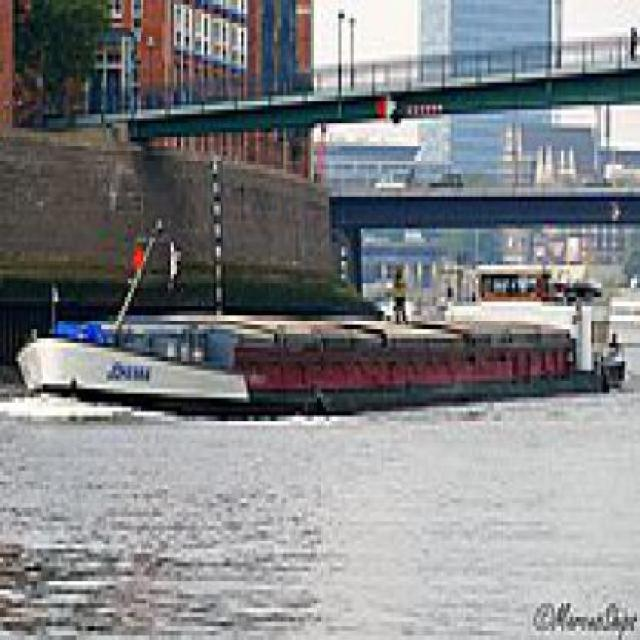container: (10, 281, 635, 427)
